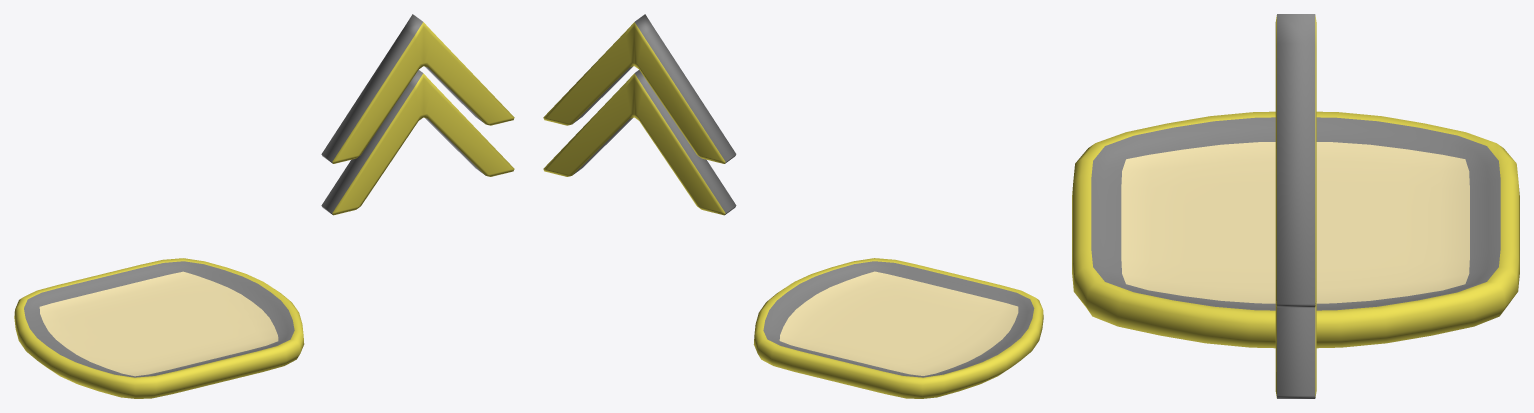
File: New_Trampoline_Jump.fbx
The picture shows the model from 3 angles, left to right: view 1: azimuth 30°, elevation 25°; view 2: azimuth 150°, elevation 25°; view 3: azimuth 270°, elevation 25°; orthographic projection. The views are drawn at different scales.
Visible parts, largest first — view 1: Trampoline, Jump; view 2: Trampoline, Jump; view 3: Trampoline, Jump.
Part boxes in pixels (box(x1,y1,x2,y2)): Trampoline: box(14, 258, 304, 398); Jump: box(321, 14, 514, 215); Trampoline: box(753, 258, 1043, 398); Jump: box(543, 14, 736, 215); Trampoline: box(1072, 111, 1519, 348); Jump: box(1275, 14, 1316, 398).
Size of the model in its own units: 171 by 91.12 by 78.78.
1 material, 1 textured.
